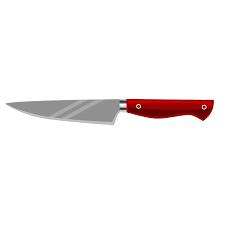Knife: (5, 98, 214, 125)
